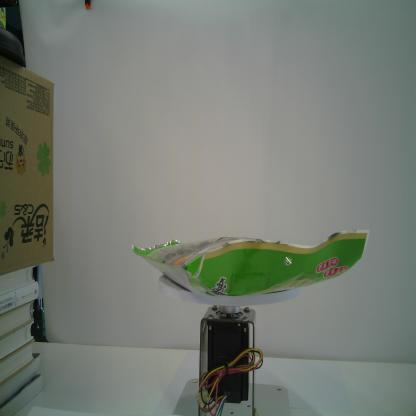Dried Food: (130, 226, 371, 298)
